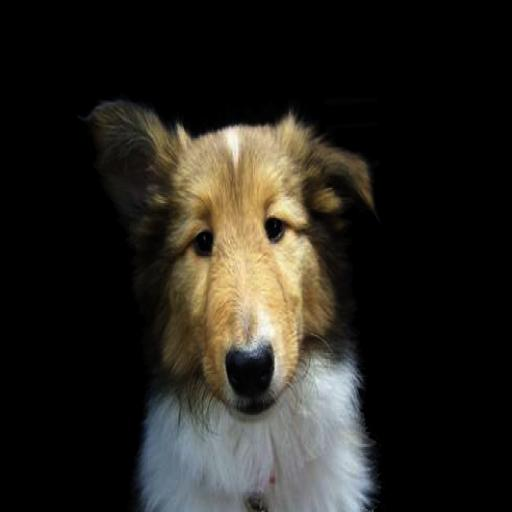dog_face: (88, 96, 377, 427)
